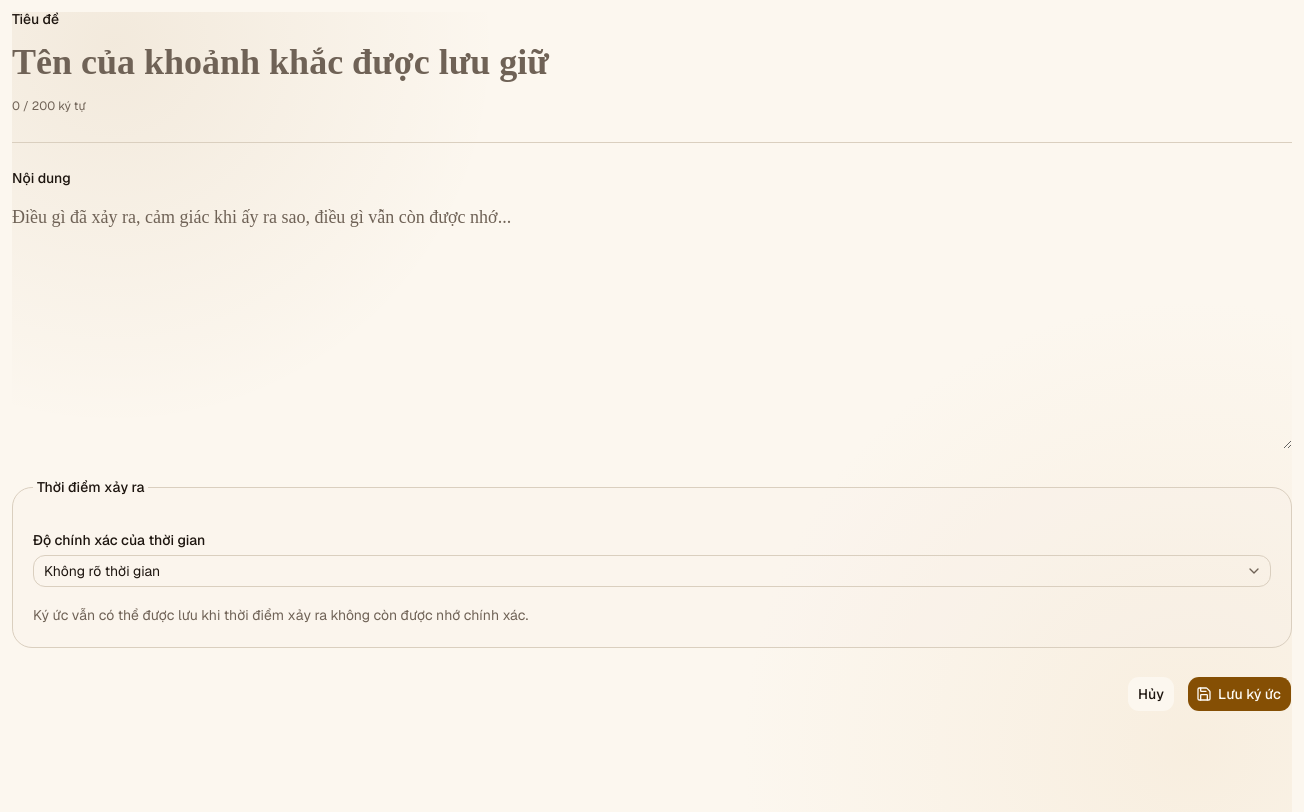
MemoryEditor › shows a safe error returned by the Server Action
The image size is (1304, 812).
Step 1. Type "Một ký ức" into the field labelled "Tiêu đề" → (652, 62), box top-left (12, 34), bottom-right (1292, 90)
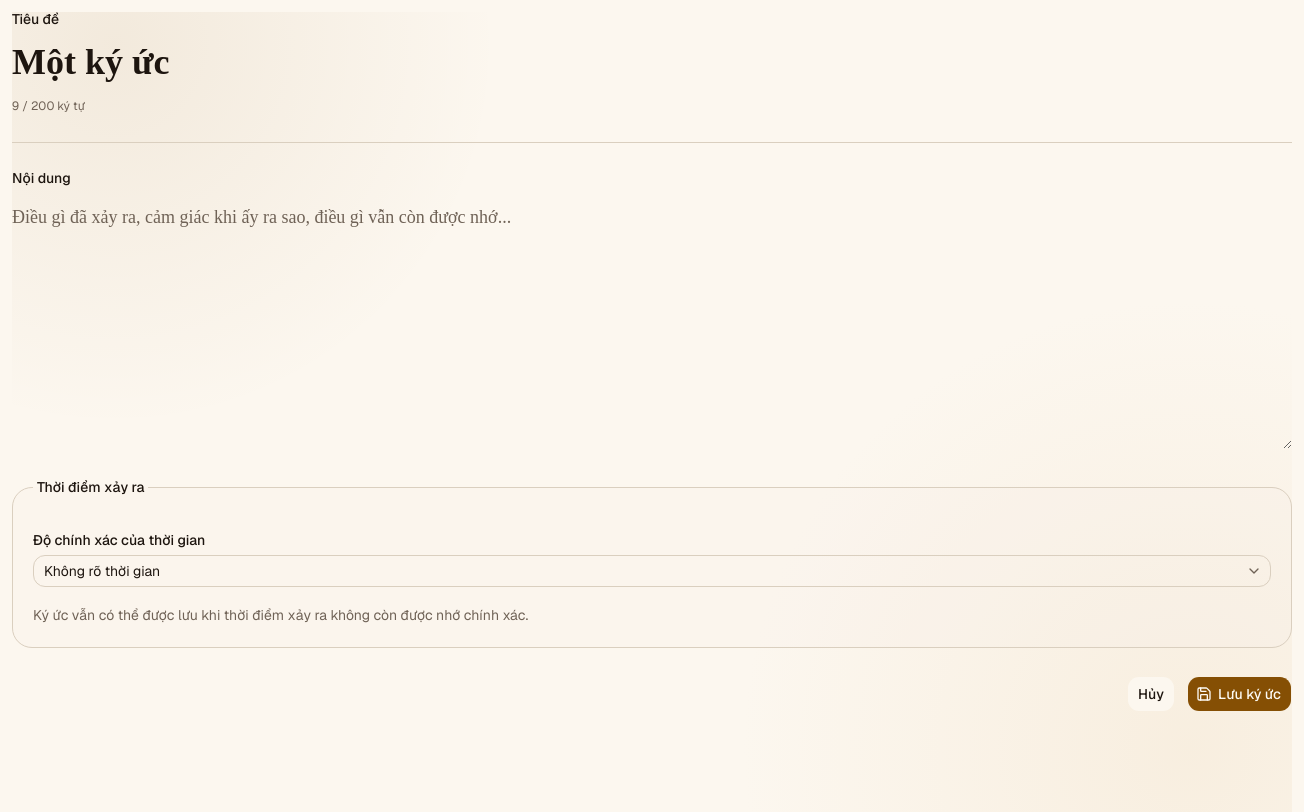
Step 2. Replace the text in the text box labelled "Nội dung" with "Nội dung của ký ức." → (652, 321), box top-left (12, 193), bottom-right (1292, 449)
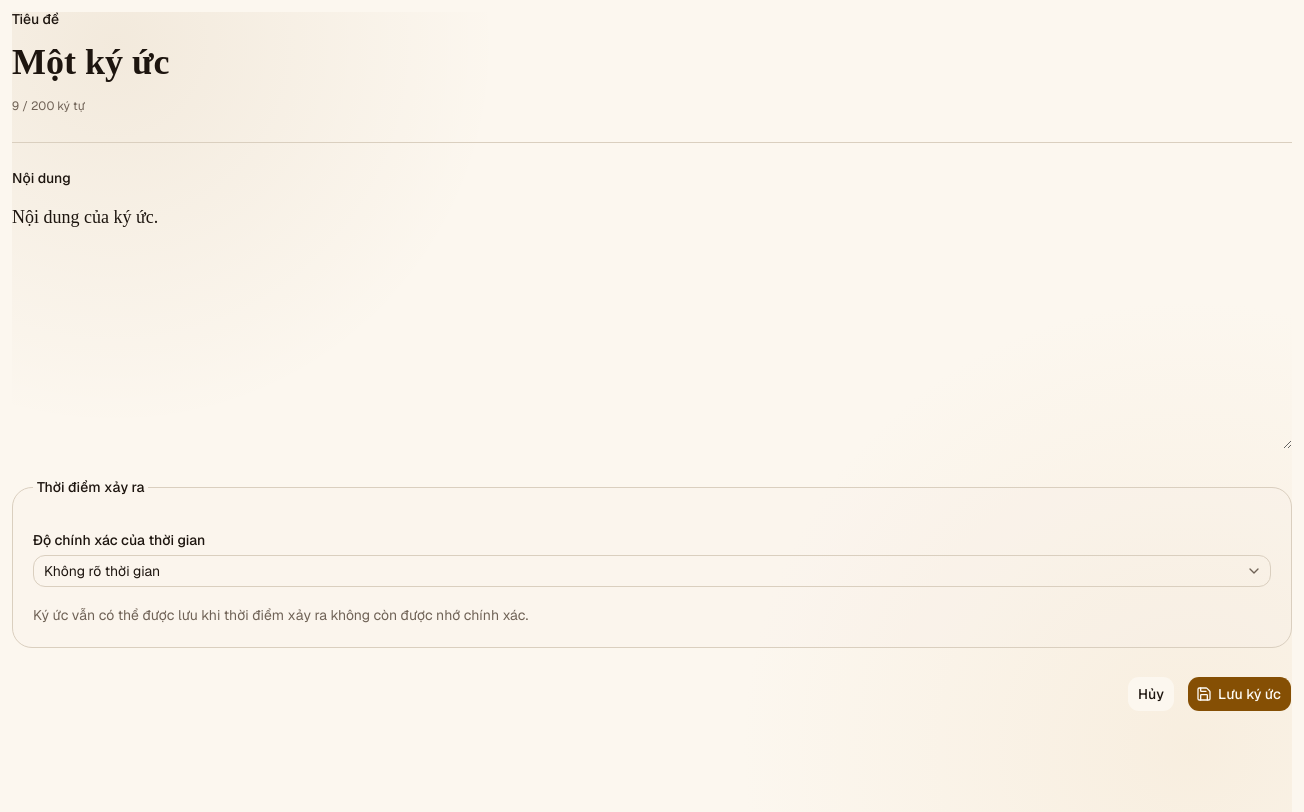
Step 3. Click the button "Lưu ký ức" → click(1240, 694), box top-left (1187, 676), bottom-right (1292, 712)
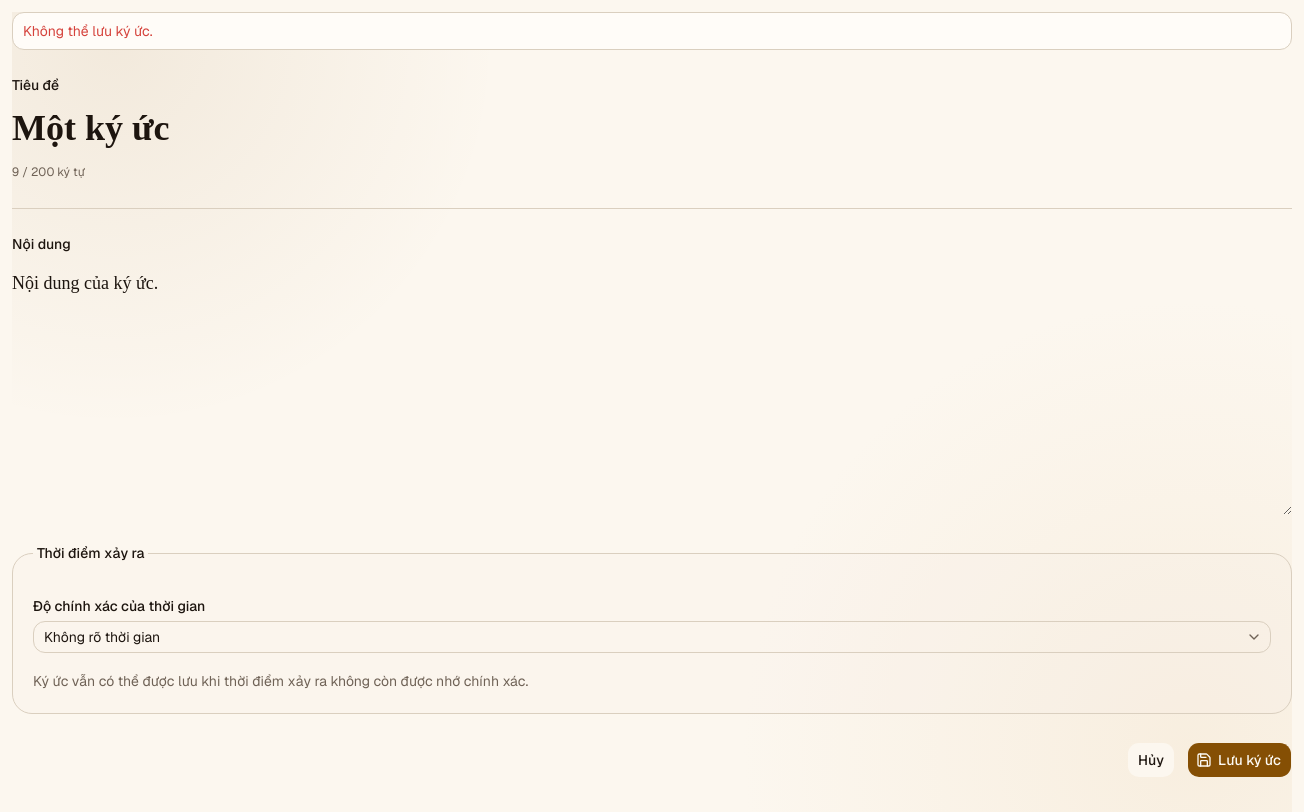
Expected: the text "Không thể lưu ký ức." is shown, top-left (23, 22), bottom-right (152, 40)
